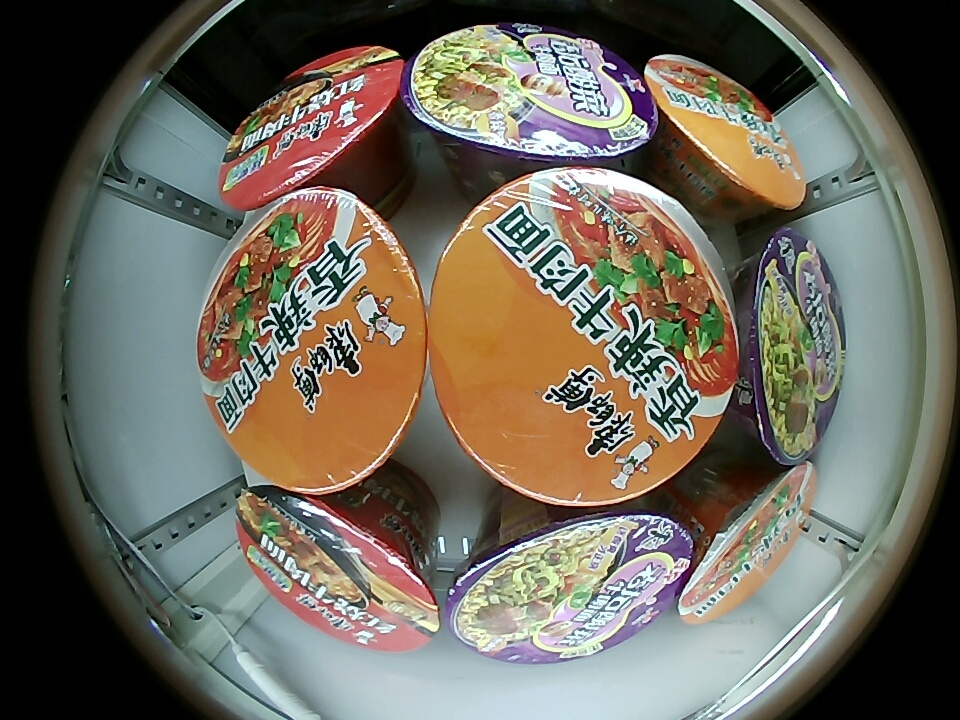hongshaoniurou: (235, 486, 441, 652), (218, 45, 405, 208)
laotansuancai: (446, 507, 696, 664), (403, 24, 661, 169), (737, 228, 844, 465)
xianglaniurou: (427, 168, 740, 509), (200, 187, 428, 496), (645, 56, 805, 213), (678, 464, 817, 625)
